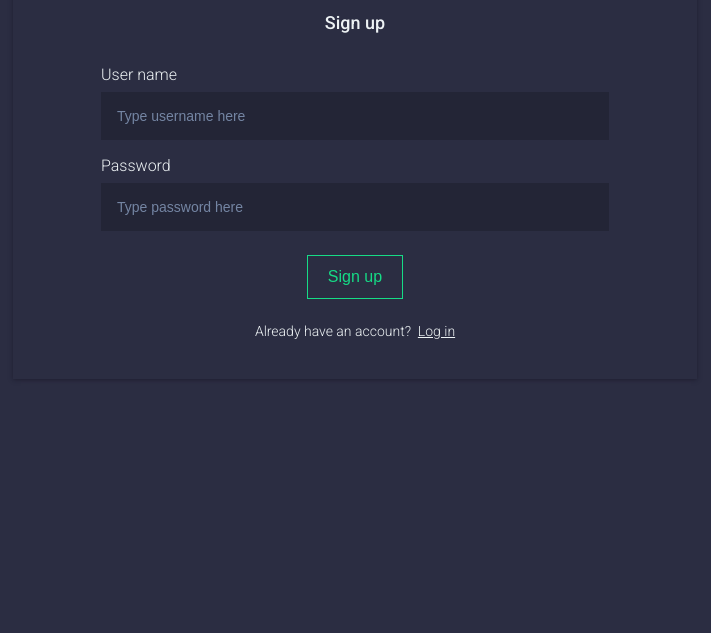
Test: displays content to redirect to login page
The width and height of the screenshot is (711, 633).
Expected: the text "Already have an account?" is shown, x1=255 y1=323 x2=418 y2=339
when clicking on login, the linked login page open.
Click the link "Log in".
click(437, 331)  # box x1=418 y1=323 x2=455 y2=339
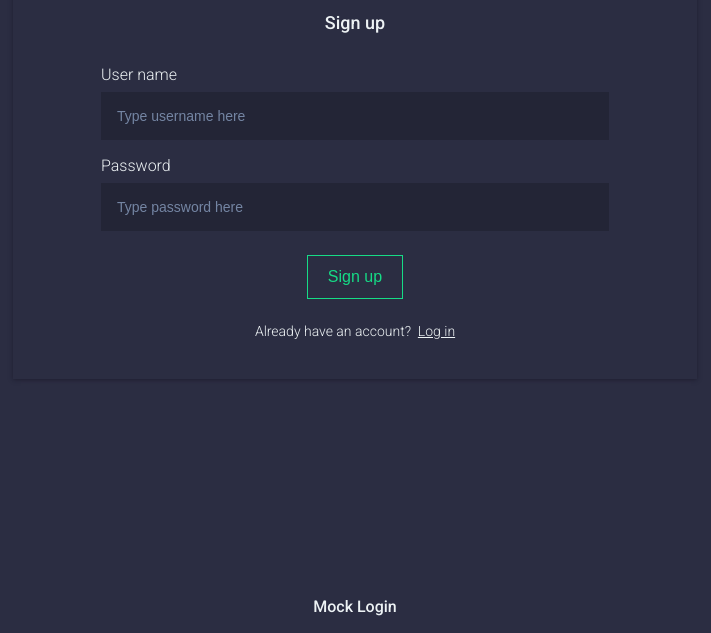
Expected: the text "Mock Login" is shown, x1=313 y1=597 x2=397 y2=616
